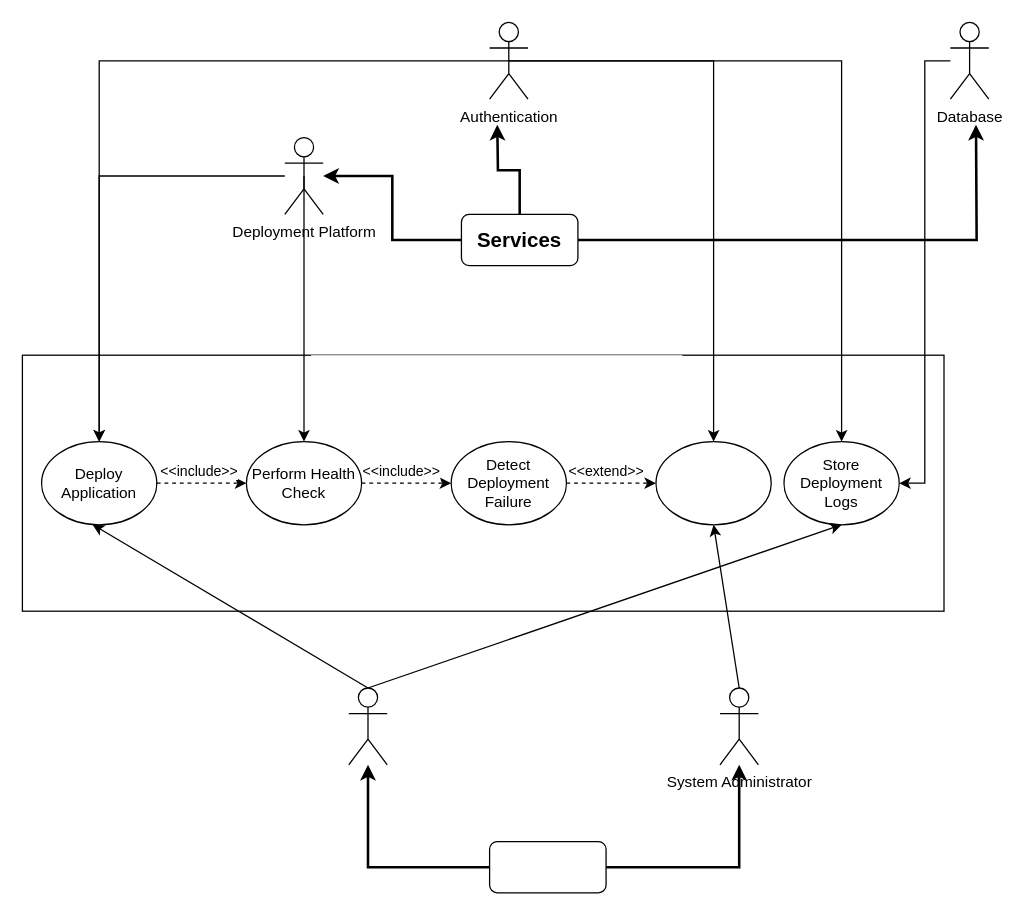
Image size: 1024x915. Some labels were removed from this diagram. Here are the shapes that lost their labels. From the top down, the centre of each, then its label:
(x=496, y=393): Container Deployment and Rollback Automation System
(x=713, y=482): Rollback to Last Stable Version
(x=367, y=726): Developer
(x=547, y=866): Actors
